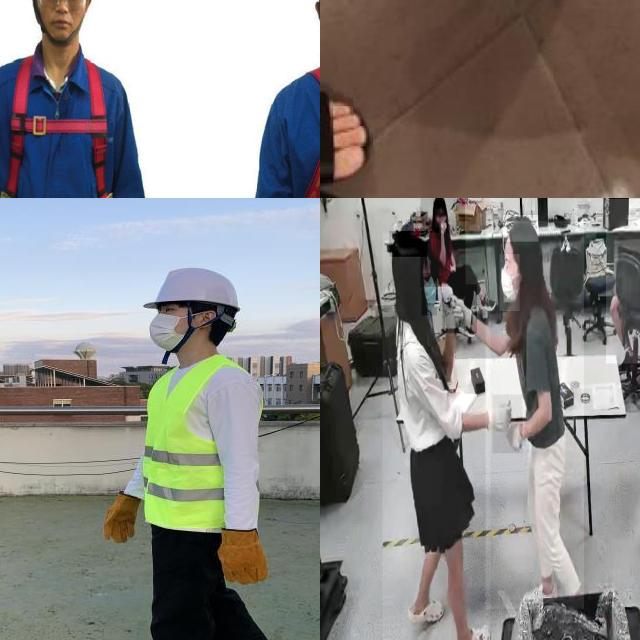Harness: (2, 52, 114, 198)
No_Ear-Protection: (194, 309, 224, 331)
Sandals: (320, 85, 371, 187)
face_mask: (500, 254, 520, 311), (421, 273, 437, 315)
face_nomask: (435, 209, 445, 228)
hand_glove: (493, 395, 523, 454), (443, 284, 477, 334)
hand_noglove: (439, 218, 446, 234)
head_helmet: (142, 267, 241, 314)
head_nohelmet: (390, 231, 428, 258), (503, 215, 539, 243), (432, 198, 445, 206)
person: (101, 258, 306, 640), (382, 232, 491, 640), (486, 221, 584, 610), (605, 198, 640, 364), (420, 198, 466, 287)
vest: (144, 355, 262, 530)
